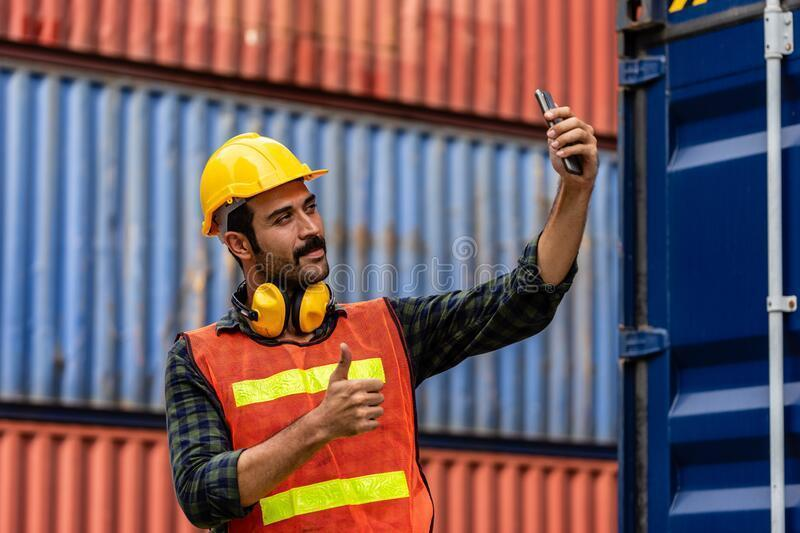helmet: (200, 131, 329, 236)
